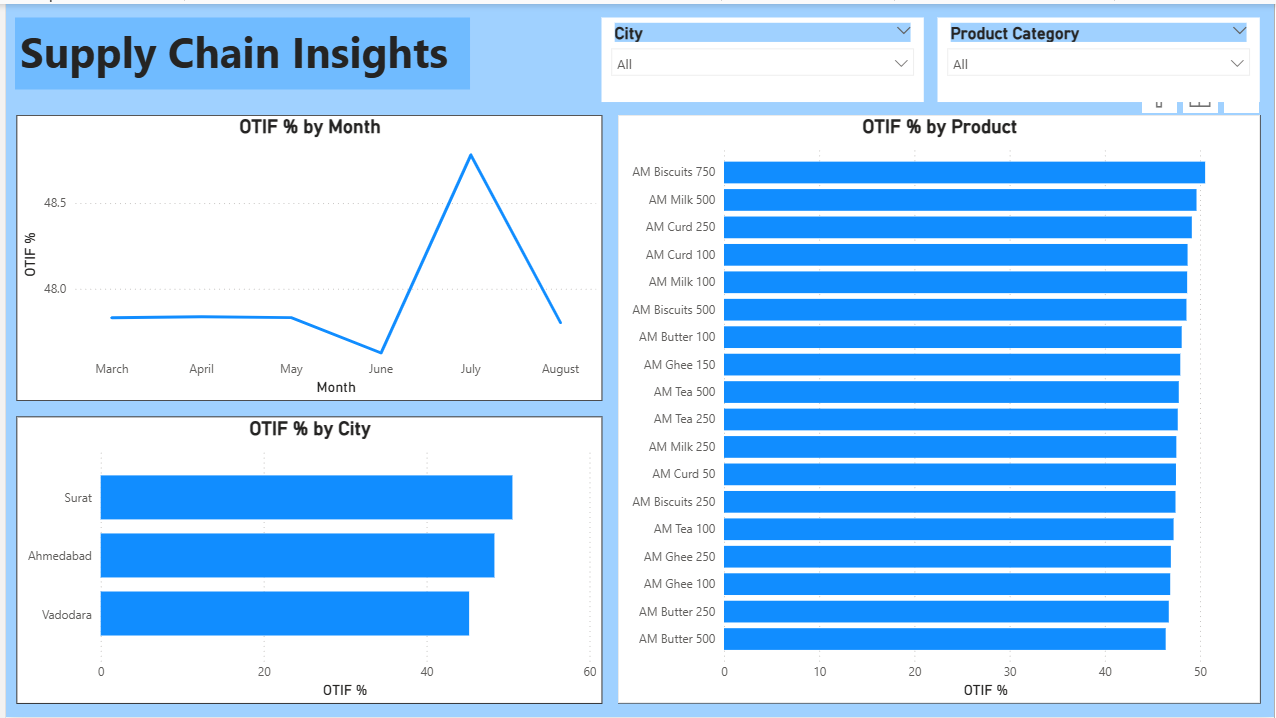

The dashboard page shown, as its layout file describes it:
{"tool":"powerbi","page":{"name":"Page 2","canvas":[1280,720],"ordinal":1},"visuals":[{"type":"textbox","box":[9.5,13.5,459.6,73],"z":0},{"type":"lineChart","title":"OTIF % by Month","fields":{"Category":["order_lines.agreed_delivery_date.Variation.Date Hierarchy.Month"],"Y":["Query1.OTIF %"]},"box":[10,111.4,591.4,288.6],"z":1000},{"type":"barChart","title":"OTIF % by Product","fields":{"Y":["Query1.OTIF %"],"Category":["products.product_name"]},"box":[617.1,111.4,648.6,594.3],"z":2000},{"type":"clusteredBarChart","title":"OTIF % by City","fields":{"Category":["customers.city"],"Y":["Query1.OTIF %"]},"box":[10,415.7,591.4,290],"z":3000},{"type":"slicer","fields":{"Values":["customers.city"]},"box":[601.7,13.3,325,85],"z":4000},{"type":"slicer","fields":{"Values":["products.category"]},"box":[940,13.3,325,85],"z":5000}]}

Visuals, with their boxes in screenshot pixels (x1, y1, x2, y2), scaled from the page's 1280x720 canvas onto the 1276x718 screenshot:
textbox: left=9, top=13, right=468, bottom=86
"OTIF % by Month" lineChart: left=10, top=111, right=600, bottom=399
"OTIF % by Product" barChart: left=615, top=111, right=1262, bottom=704
"OTIF % by City" clusteredBarChart: left=10, top=415, right=600, bottom=704
slicer - customers.city: left=600, top=13, right=924, bottom=98
slicer - products.category: left=937, top=13, right=1261, bottom=98
